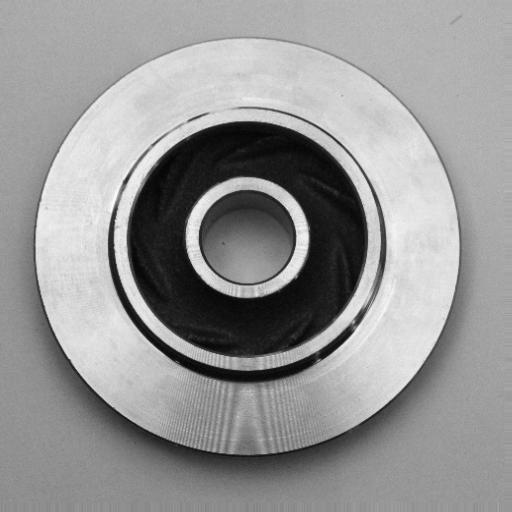scratch: (343, 259, 397, 344)
unpolished_casting: (30, 36, 460, 463)
